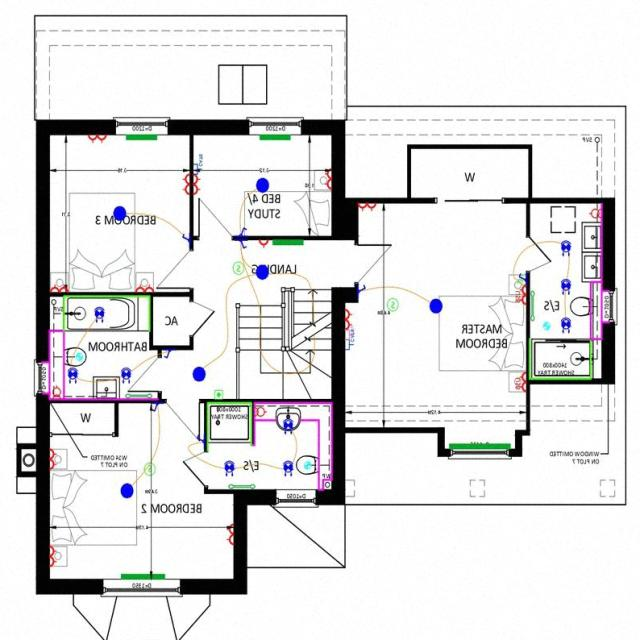Cat 6 Data Socke: (194, 152, 203, 170), (346, 339, 354, 350)
Ceiling Mounted Continuous Extract FanWith Boost Mode Activated By Light Switch: (76, 352, 84, 361), (544, 322, 552, 329), (304, 461, 311, 469)
Double Socket: (183, 173, 193, 195), (134, 283, 154, 293), (194, 172, 203, 194), (49, 447, 58, 469), (51, 283, 70, 293), (50, 544, 58, 567), (358, 201, 378, 210), (346, 308, 354, 329), (326, 170, 334, 190), (88, 134, 108, 142), (228, 523, 235, 545)
Full Height Tiling: (65, 294, 153, 330), (531, 339, 594, 376), (209, 402, 252, 442)
Light Switch: (259, 238, 269, 248), (360, 283, 368, 294), (164, 349, 173, 358), (197, 435, 206, 444), (240, 239, 248, 249), (240, 227, 248, 236), (518, 273, 526, 282), (183, 232, 190, 242), (150, 403, 160, 410)
Low Energy Downlighter: (561, 316, 573, 334), (283, 459, 295, 476), (95, 306, 106, 323), (225, 459, 236, 476), (122, 367, 133, 383), (562, 239, 572, 256), (284, 418, 295, 433), (562, 278, 571, 296), (69, 367, 79, 383)
Low Energy Pendant Light: (256, 263, 271, 279), (113, 205, 127, 221), (431, 297, 444, 313), (257, 176, 270, 192), (122, 482, 134, 497), (194, 366, 206, 380)
Mains Wired Smoke Detector: (144, 462, 156, 475), (388, 297, 400, 310), (234, 261, 245, 274)
Programmable Room Thermostat: (215, 389, 225, 399)
Radiator: (449, 443, 511, 448), (121, 573, 166, 579), (272, 238, 304, 245), (260, 133, 292, 139), (126, 134, 158, 139)
Shaver Socket: (590, 207, 603, 220), (52, 384, 64, 398), (256, 406, 269, 418)
TV - Satellite Multisocket: (346, 329, 354, 339)
USB Double Socket: (515, 371, 527, 391), (516, 283, 526, 305)
